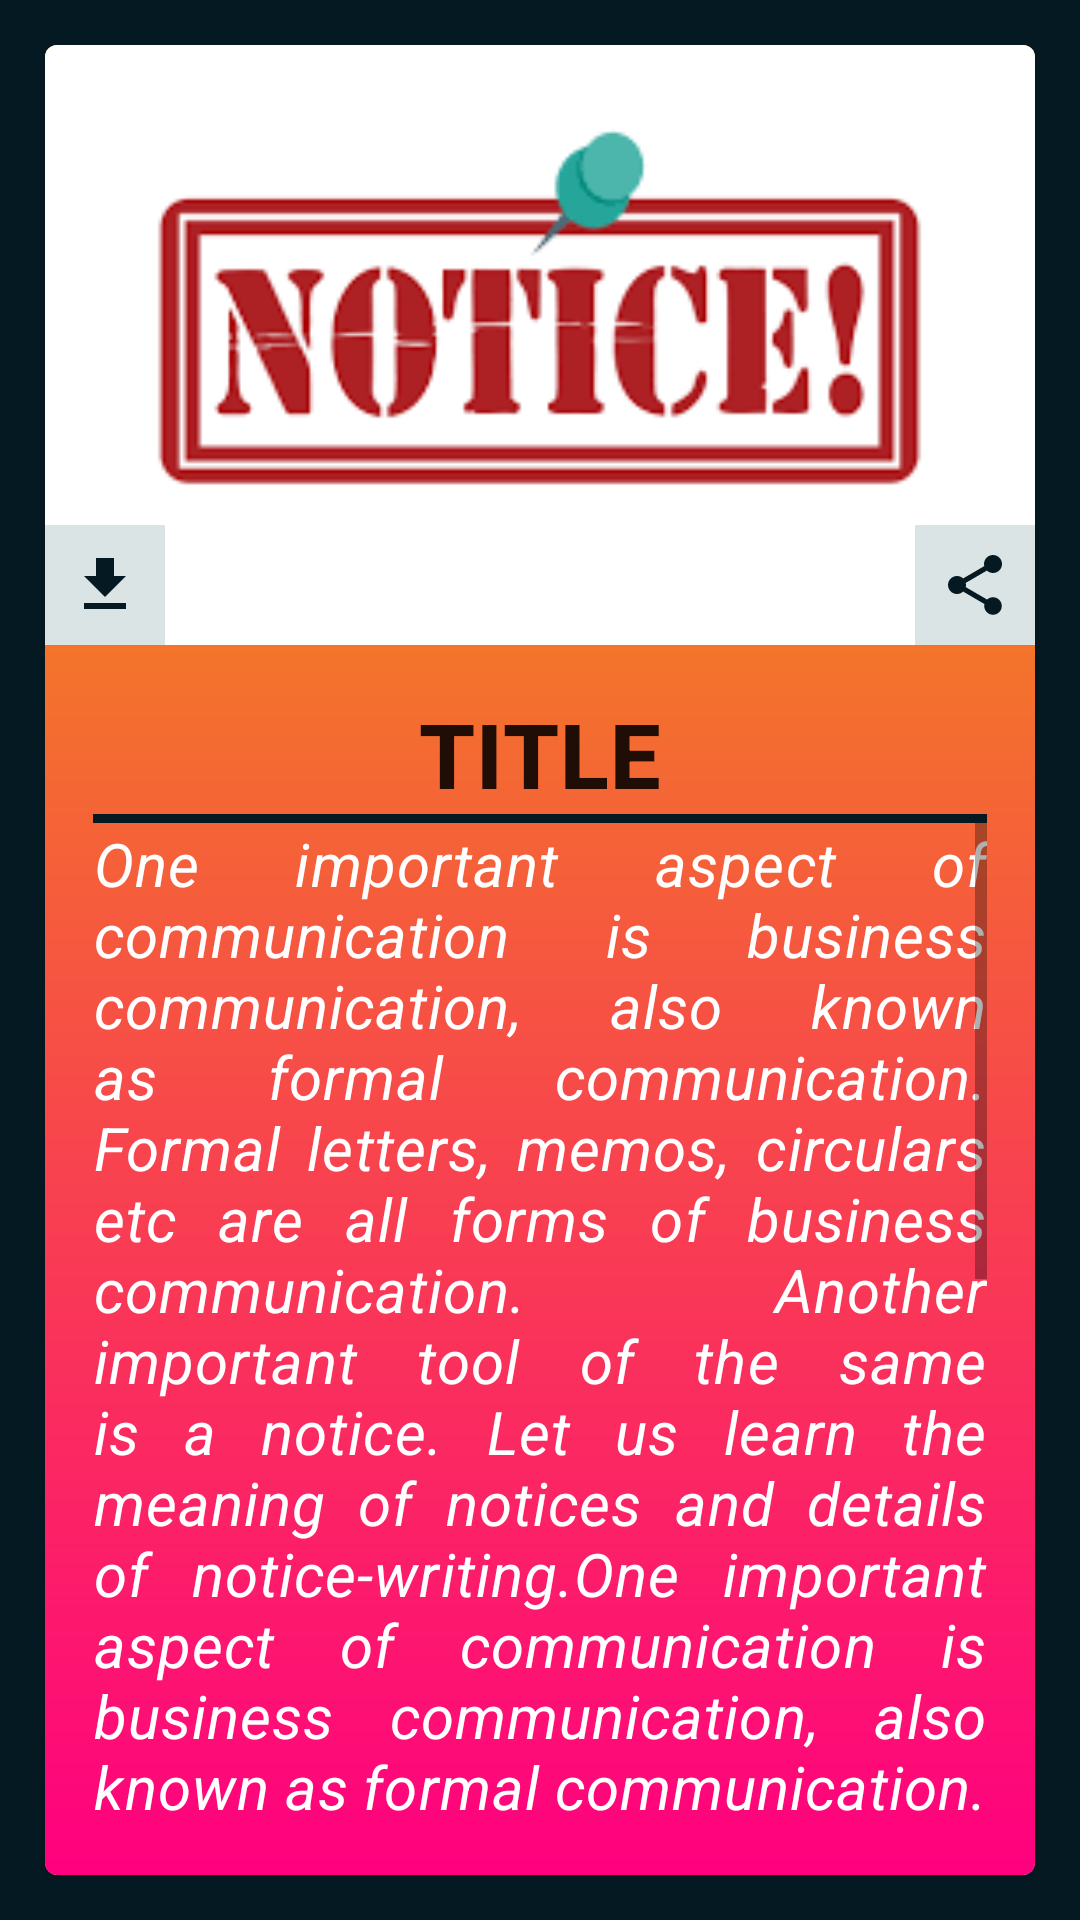

Point at icon controls on the screen. Image size 1080*1920, points as point (x, y).
download: point (105, 585)
share: point (975, 585)
